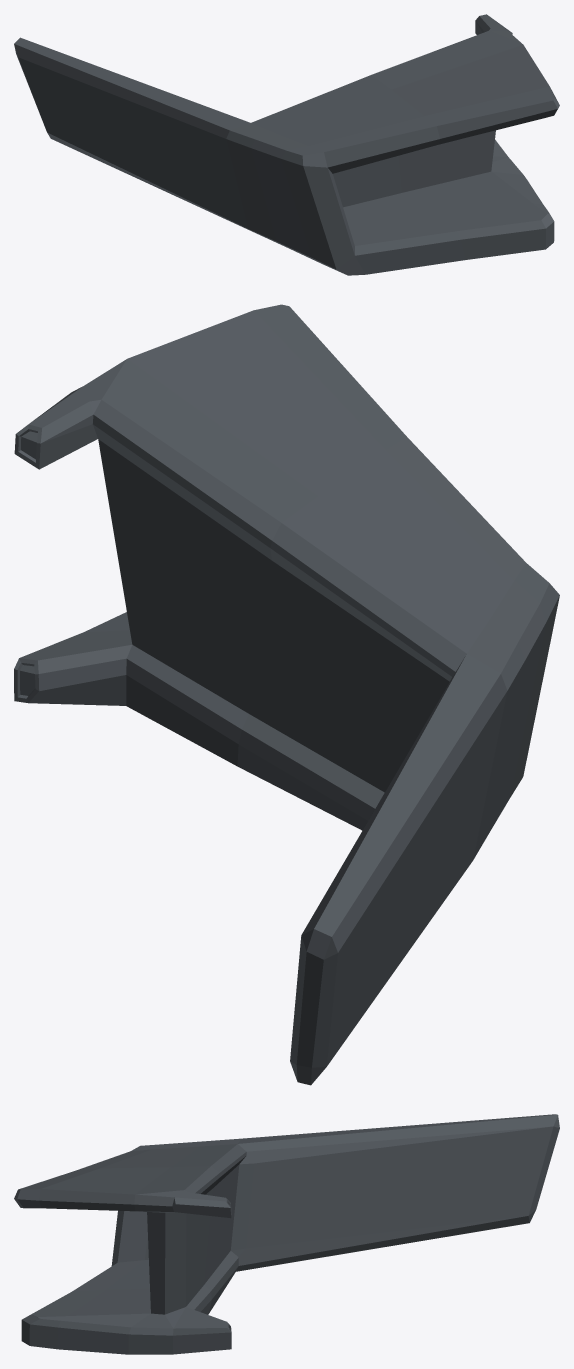
File: Fighter_07_Primary_Wings_Right_Blue.fbx
The picture shows the model from 3 angles, top to bottom: view 1: azimuth 30°, elevation 25°; view 2: azimuth 150°, elevation 25°; view 3: azimuth 270°, elevation 25°; orthographic projection. The views are drawn at different scales.
Visible parts, largest first — view 1: Fighter_07_Primary_Wings_Right_Blue; view 2: Fighter_07_Primary_Wings_Right_Blue; view 3: Fighter_07_Primary_Wings_Right_Blue.
Part boxes in pixels (bbox=[...]): Fighter_07_Primary_Wings_Right_Blue: bbox=[14, 14, 559, 275]; Fighter_07_Primary_Wings_Right_Blue: bbox=[14, 304, 559, 1085]; Fighter_07_Primary_Wings_Right_Blue: bbox=[14, 1114, 559, 1354].
Bounding box in the file's own units: 486 × 261 × 696.
Materials: 1 (1 with a texture image).
